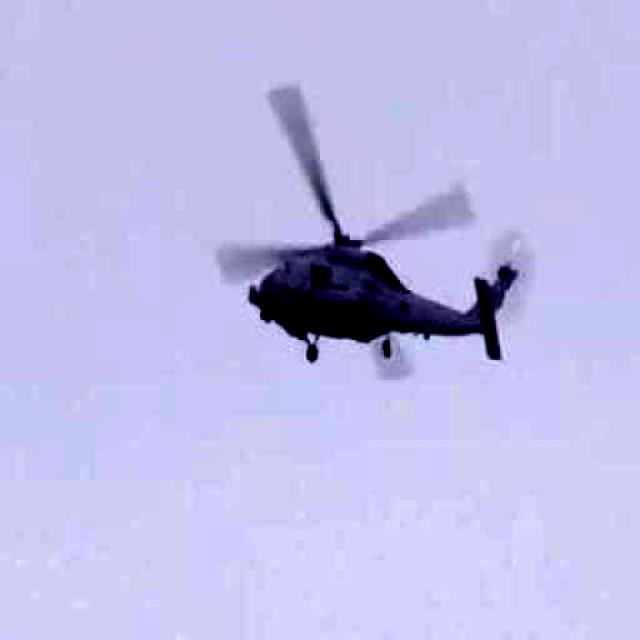drone: (146, 2, 594, 432)
